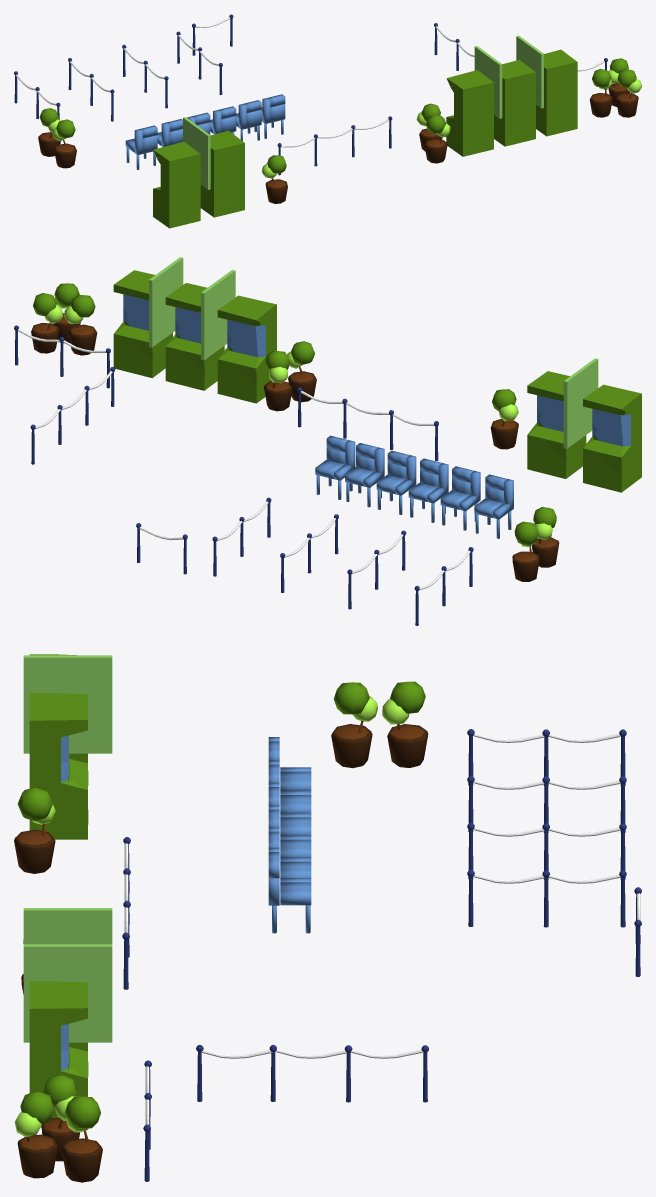
The model's file is bank_broken_pieces.fbx.
The picture shows the model from 3 angles, top to bottom: view 1: azimuth 30°, elevation 25°; view 2: azimuth 150°, elevation 25°; view 3: azimuth 270°, elevation 25°; orthographic projection. The views are drawn at different scales.
Parts seen in each view (by area): view 1: 4_atm_cell.033, 2_atm_cell.001, 4_atm_cell.038, 3_atm_cell.022, 1_atm_cell.014, 2_atm_cell.007, 5_atm_cell.030, 3_atm_cell.021, 1_atm_cell.013, 4_atm_cell.037, 2_atm_cell.006, 5_atm_cell.029 (+18 smaller); view 2: 4_atm_cell.033, 2_atm_cell.001, 2_atm_cell.003, 4_atm_cell.035, 5_atm_cell.025, 1_atm_cell.008, 3_atm_cell.017, 4_atm_cell.034, 5_atm_cell.027, 5_atm_cell.026, 1_atm_cell.011, 3_atm_cell.019 (+11 smaller); view 3: 1_atm_cell.011, 5_atm_cell.027, 5_atm_cell.028, 1_atm_cell.012, 3_ara_duvar_cell.014, 2_ara_duvar_cell.004, 5_atm_cell.026, 2_ara_duvar_cell.012, 3_ara_duvar_cell.019, 1_ara_duvar_cell.006, uv_plant.035, uv_plant.012 (+17 smaller).
Part boxes in pixels (x1,y1,x2,y2): 4_atm_cell.033: (153, 156, 179, 217); 2_atm_cell.001: (446, 84, 472, 145); 4_atm_cell.038: (169, 154, 200, 186); 3_atm_cell.022: (505, 72, 535, 104); 1_atm_cell.014: (546, 62, 577, 94); 2_atm_cell.007: (463, 82, 493, 114); 5_atm_cell.030: (214, 143, 244, 175); 3_atm_cell.021: (502, 99, 528, 140); 1_atm_cell.013: (544, 88, 569, 130); 4_atm_cell.037: (167, 180, 192, 222); 2_atm_cell.006: (460, 109, 486, 150); 5_atm_cell.029: (212, 170, 237, 211); 4_atm_cell.033: (597, 393, 641, 476); 2_atm_cell.001: (232, 304, 276, 387); 2_atm_cell.003: (217, 295, 268, 340); 4_atm_cell.035: (583, 384, 633, 429); 5_atm_cell.025: (541, 402, 586, 462); 1_atm_cell.008: (127, 301, 172, 361); 3_atm_cell.017: (179, 314, 224, 374); 4_atm_cell.034: (583, 461, 641, 492); 5_atm_cell.027: (527, 371, 567, 415); 5_atm_cell.026: (527, 447, 582, 478); 1_atm_cell.011: (113, 270, 153, 314); 3_atm_cell.019: (165, 283, 205, 327); 1_atm_cell.011: (29, 981, 87, 1051); 5_atm_cell.027: (29, 693, 87, 762); 5_atm_cell.028: (29, 753, 68, 822); 1_atm_cell.012: (29, 1041, 68, 1092); 3_ara_duvar_cell.014: (46, 668, 112, 724); 2_ara_duvar_cell.004: (46, 957, 112, 1013); 5_atm_cell.026: (29, 800, 88, 839); 2_ara_duvar_cell.012: (50, 944, 112, 970); 3_ara_duvar_cell.019: (50, 655, 112, 681); 1_ara_duvar_cell.006: (50, 908, 112, 934); uv_plant.035: (61, 1138, 102, 1182); uv_plant.012: (14, 829, 55, 873).
Bounding box in the file's own units: 103 × 63.16 × 16.82.
